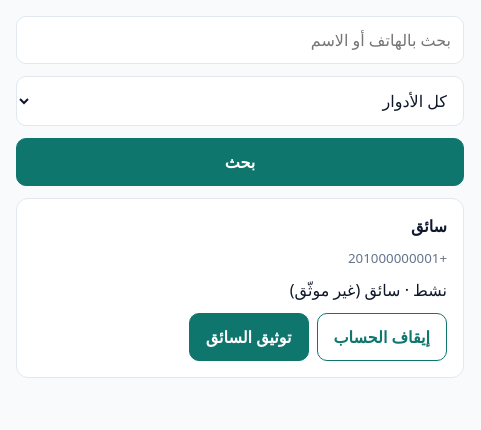
AdminUsers › shows server errors
Step 1. Click the button "إيقاف الحساب" → (382, 337), box [316,313,447,361]
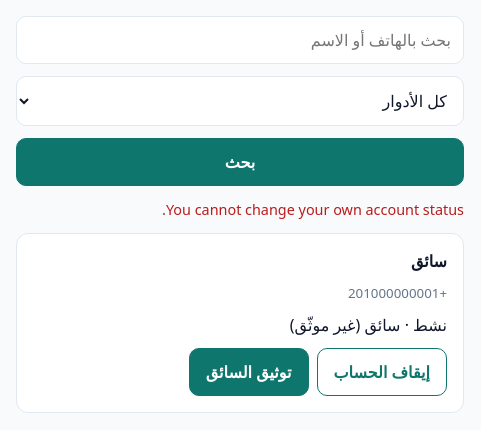
Check: the text "cannot change your own" is shown, box [162,200,464,219]
